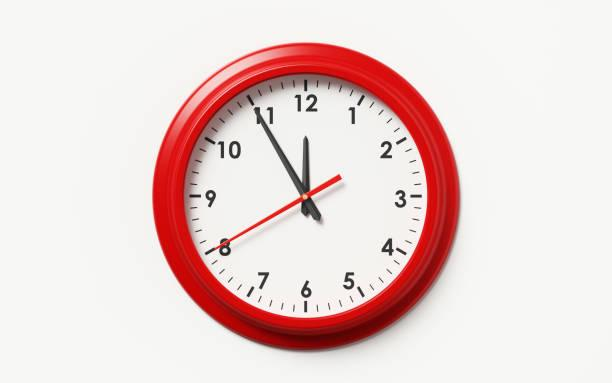clock: (143, 44, 465, 357)
